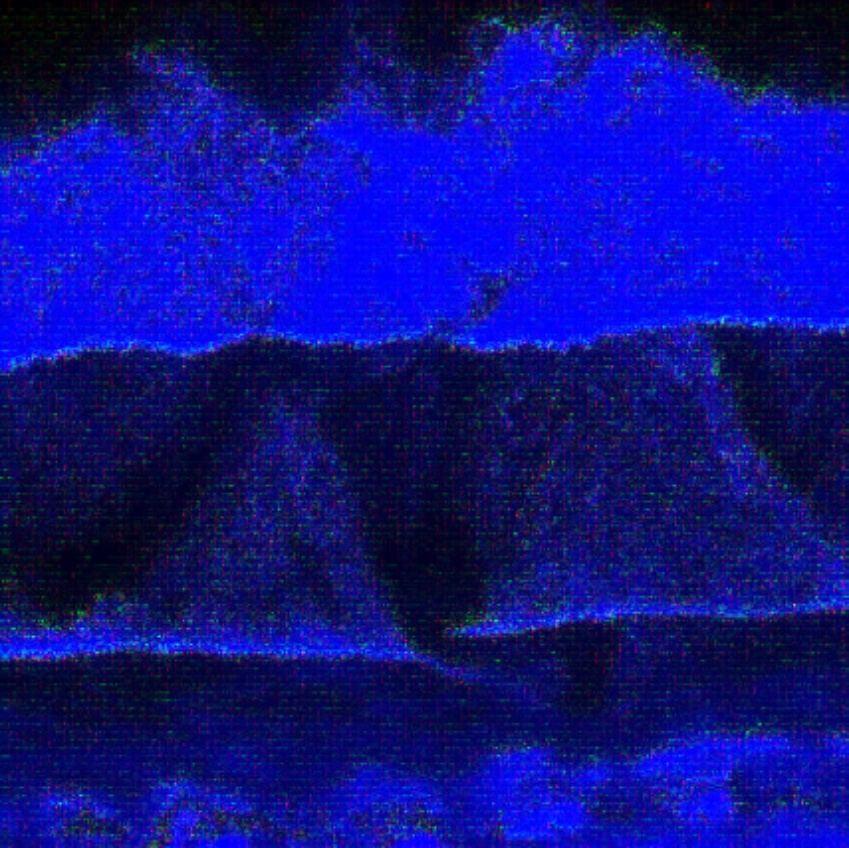rip_current: (287, 35, 526, 651)
